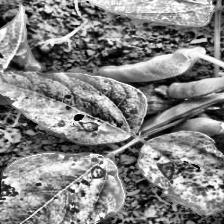ALS: (0, 65, 143, 144), (0, 152, 123, 224), (139, 128, 224, 219), (26, 0, 214, 24)
